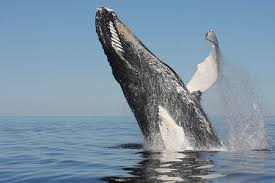humpback: (96, 7, 227, 148)
